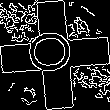O_E: (28, 31, 82, 79)
